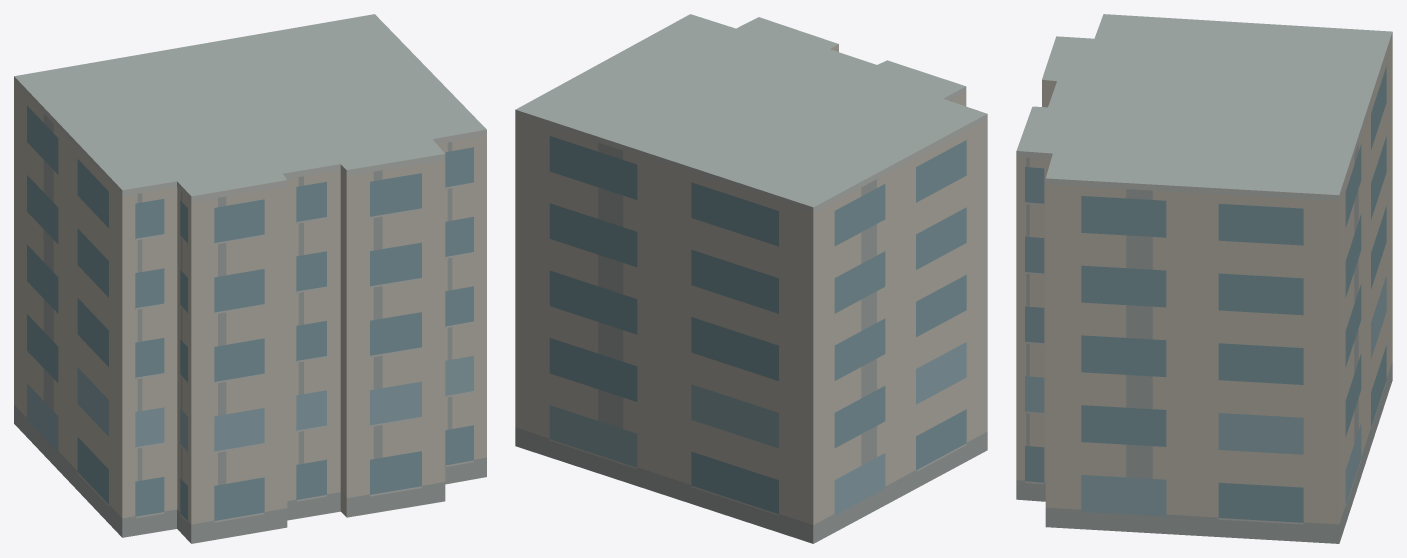
The model's file is survey-upis-32937232.glb.
3 views of the same model, side by side, from view 1: azimuth 30°, elevation 25°; view 2: azimuth 150°, elevation 25°; view 3: azimuth 270°, elevation 25° (orthographic). The views are drawn at different scales.
Parts seen in each view (by area): view 1: survey-upis-32937232.tmp; view 2: survey-upis-32937232.tmp; view 3: survey-upis-32937232.tmp.
Part boxes in pixels (left/top/right/bottom): survey-upis-32937232.tmp: left=14, top=14, right=486, bottom=543; survey-upis-32937232.tmp: left=515, top=14, right=987, bottom=543; survey-upis-32937232.tmp: left=1016, top=14, right=1392, bottom=543.
Bounding box in the file's own units: 15.72 × 14.1 × 13.79.
